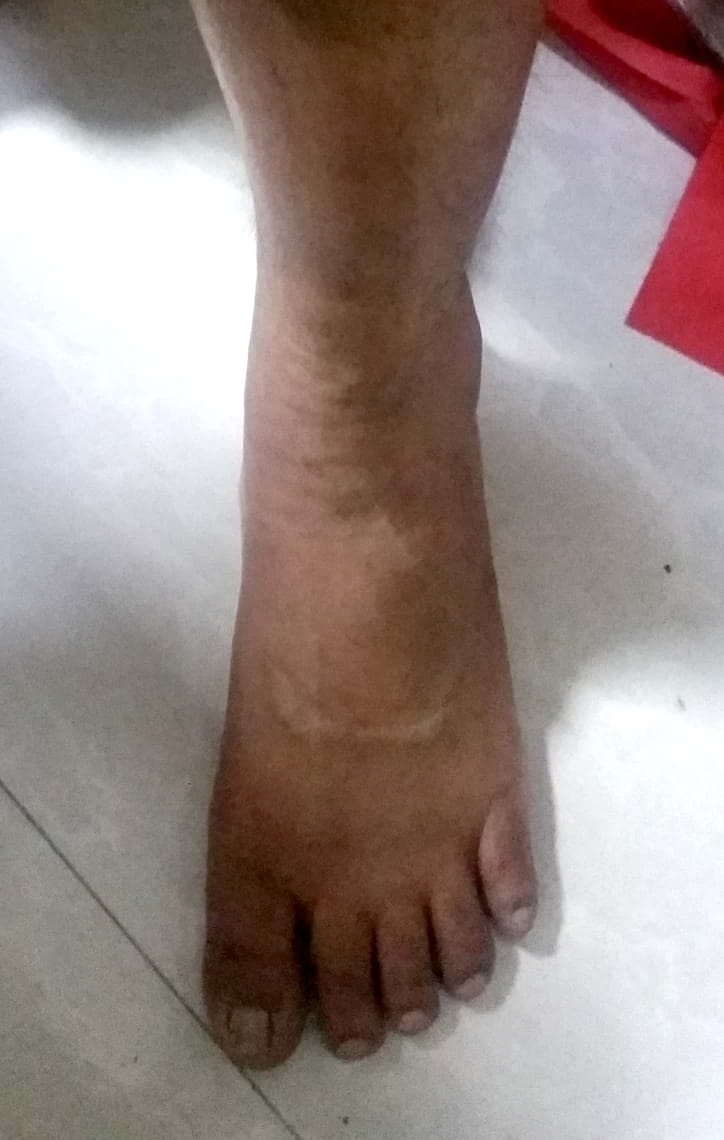feet: (114, 259, 546, 1083)
